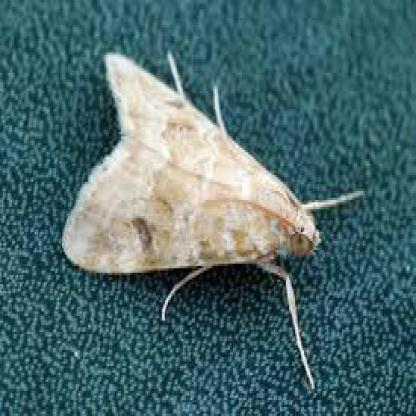Hellula undalis: (57, 43, 373, 399)
